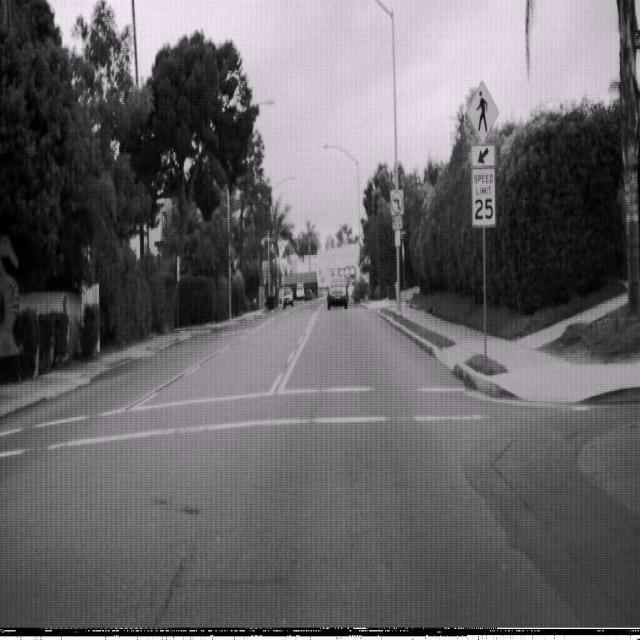noLeftTurn: (389, 189, 403, 216)
pedestrianCrossing: (466, 78, 499, 146)
speedLimit25: (471, 166, 496, 228)
